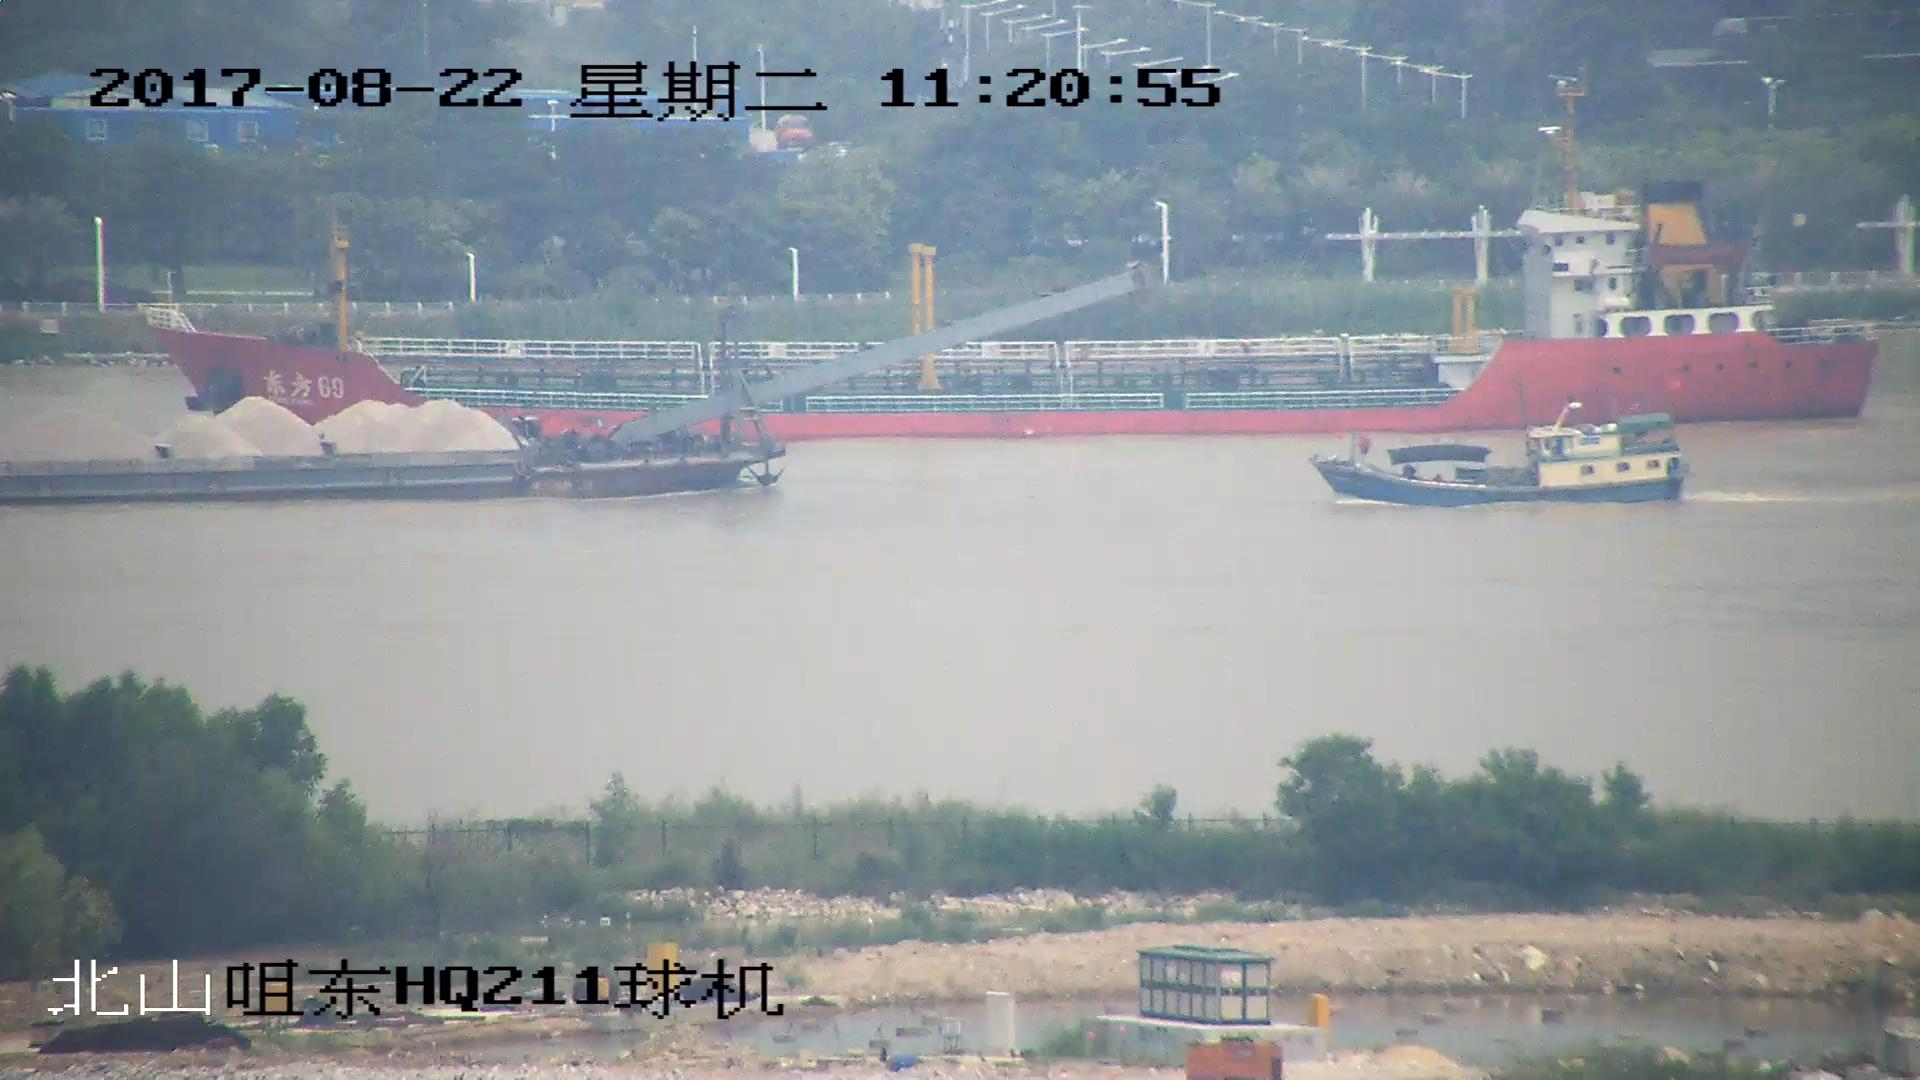fishing boat: (1312, 401, 1689, 507)
general cargo ship: (138, 108, 1876, 441)
ore carrier: (1, 273, 1148, 503)
